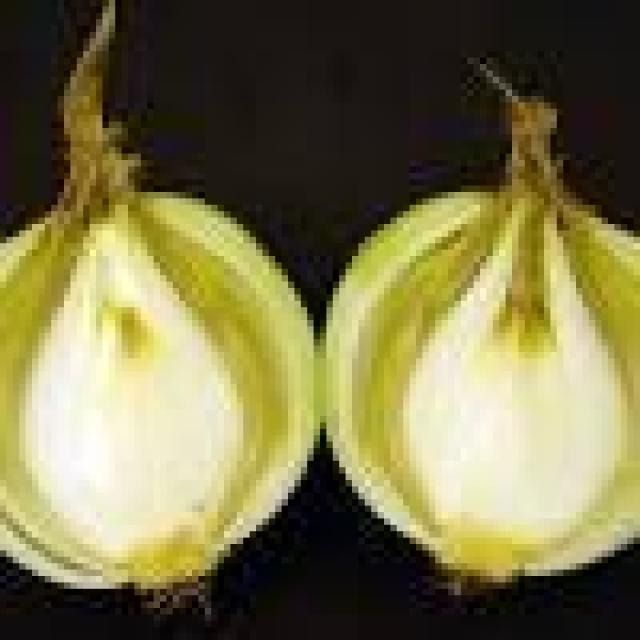Onion: (6, 13, 326, 621), (320, 58, 640, 614)
